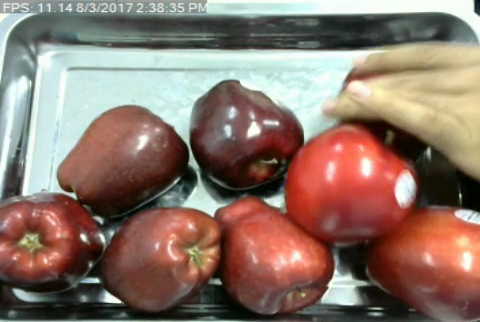Apple: (279, 119, 420, 247), (54, 101, 192, 216), (211, 192, 336, 316), (95, 204, 221, 319), (364, 201, 479, 322), (189, 76, 305, 193), (0, 190, 108, 295)
